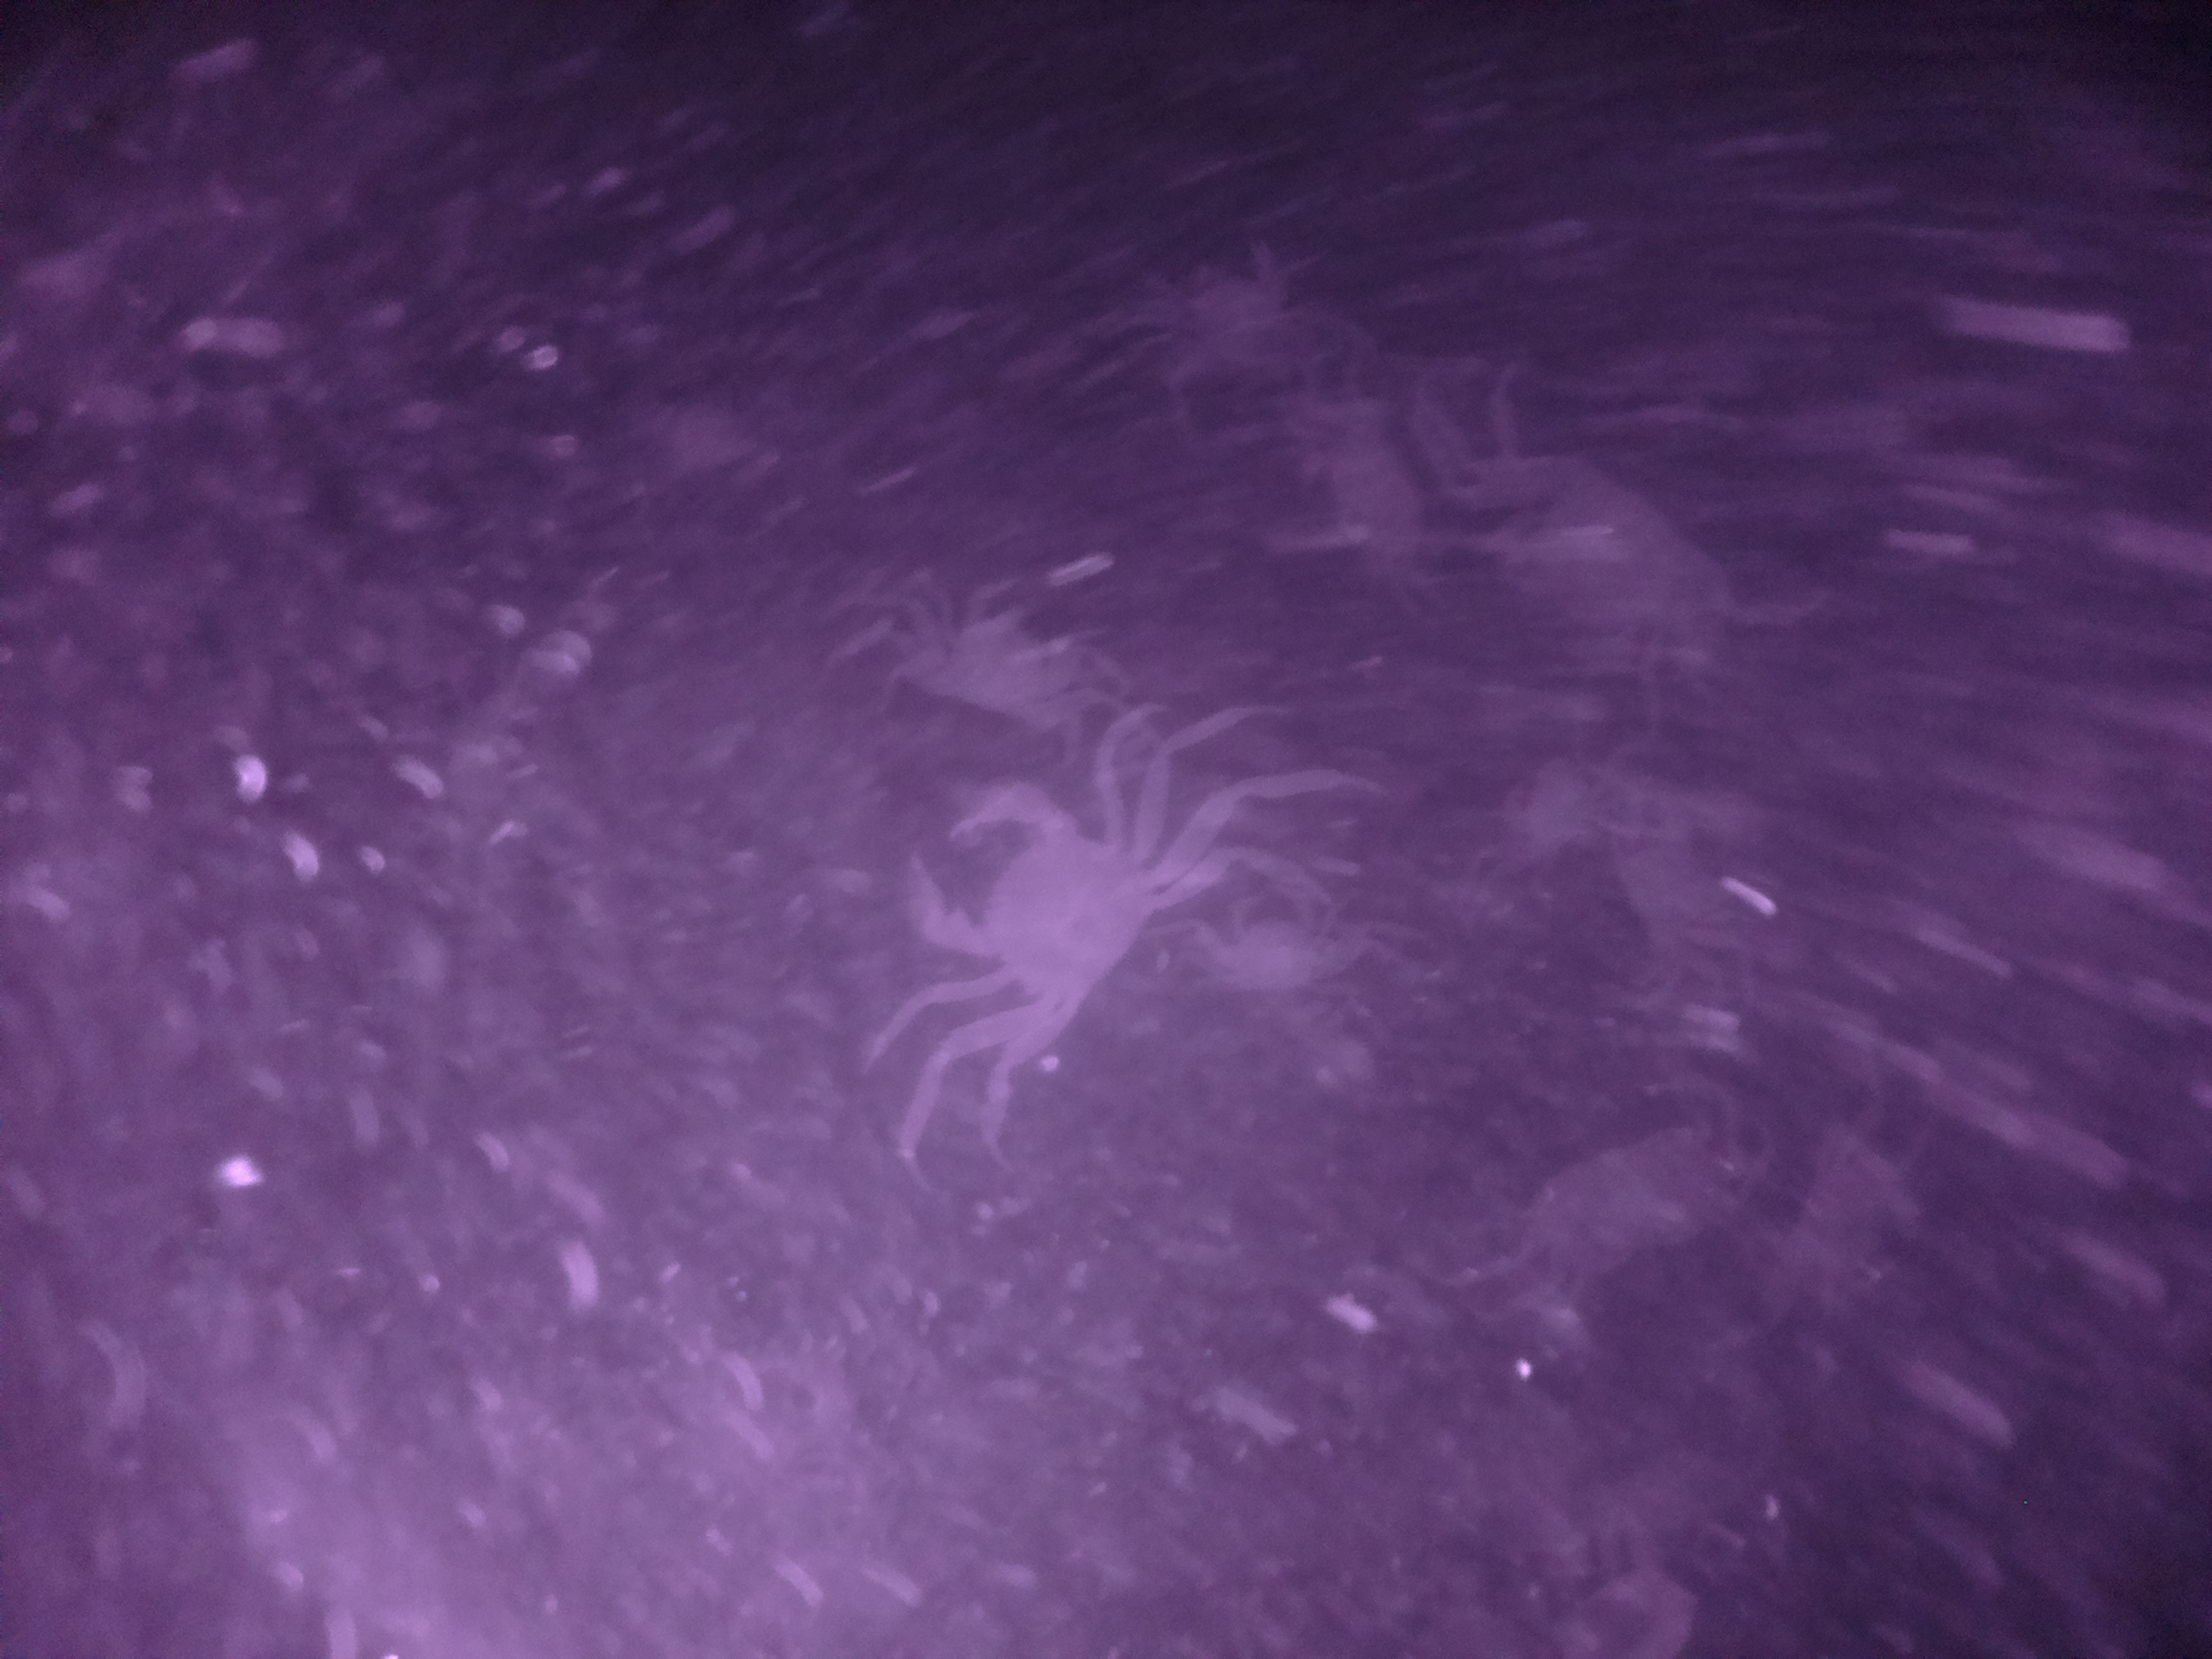Crab: (892, 765, 1190, 1060)
